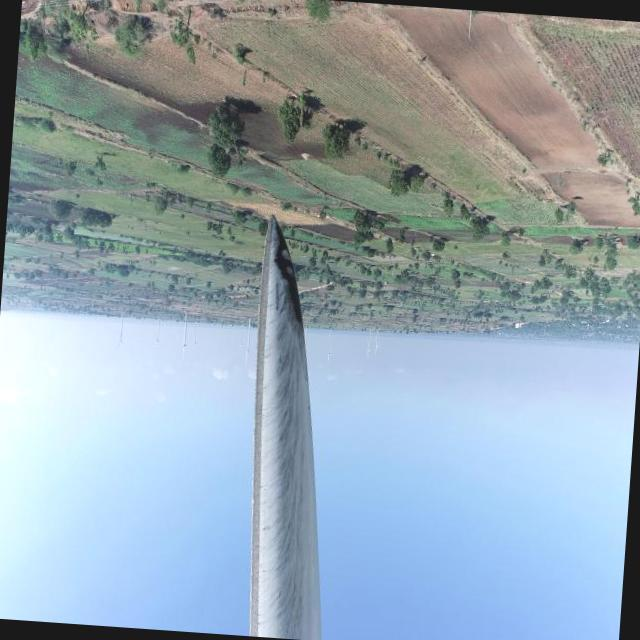Dirt: (252, 221, 323, 640)
Oil LEAKAGE: (270, 217, 304, 326)
